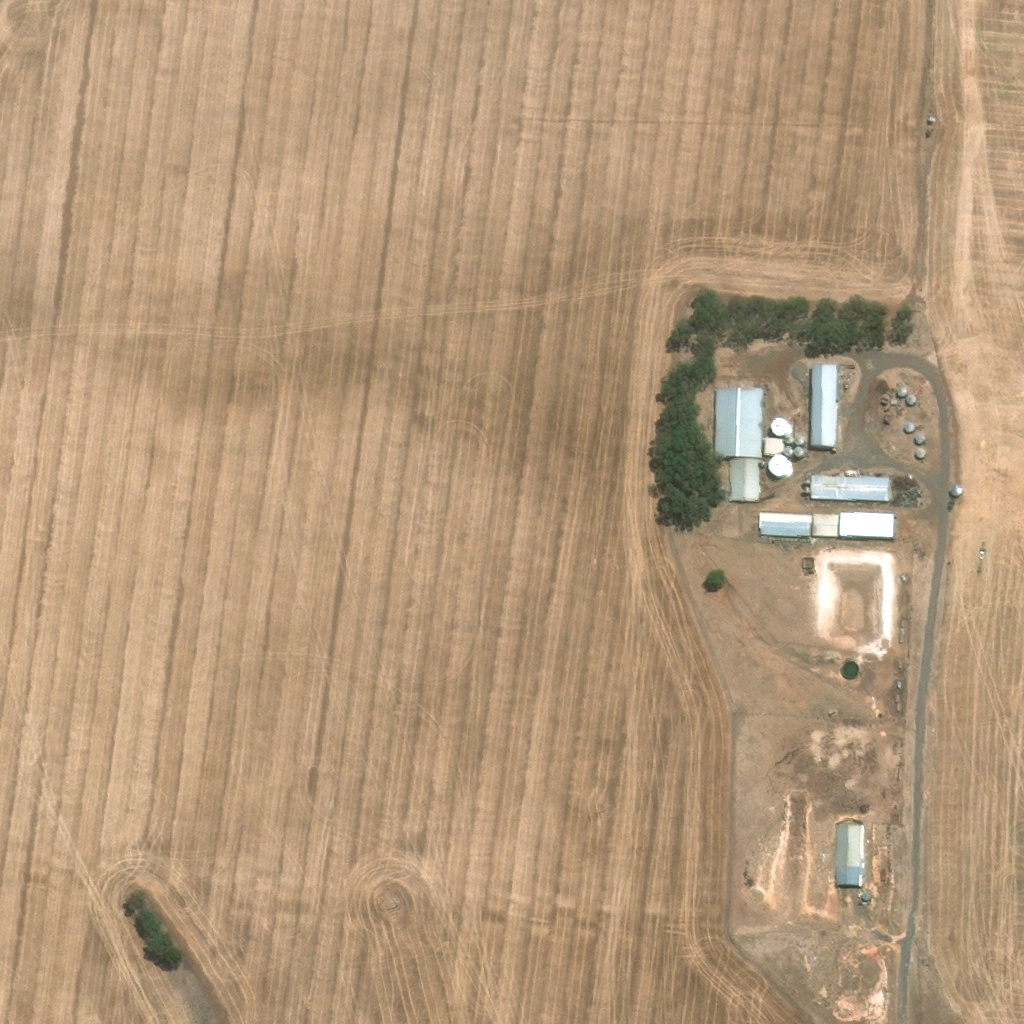0 no-damage: (713, 386, 763, 457), (810, 359, 839, 450), (810, 469, 889, 502), (834, 822, 864, 887), (727, 457, 759, 503), (839, 510, 895, 535), (758, 512, 812, 537), (767, 451, 792, 479), (811, 513, 838, 537), (763, 435, 784, 456), (772, 414, 790, 433), (896, 383, 909, 396), (794, 432, 806, 444), (793, 444, 805, 456), (905, 393, 917, 405), (903, 420, 915, 432), (914, 432, 926, 444), (784, 443, 795, 455), (915, 446, 926, 458), (783, 432, 795, 442), (863, 891, 871, 900)
4 un-classified: (914, 407, 927, 420), (895, 369, 907, 381), (855, 893, 862, 898), (856, 899, 862, 904)
